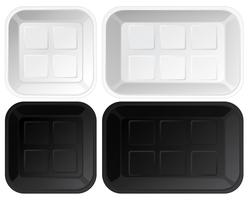Foam Box: (100, 98, 247, 195), (101, 5, 244, 97), (3, 5, 99, 98), (3, 101, 98, 194)
